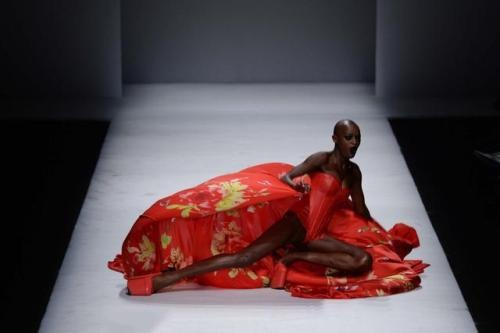falling: (111, 109, 396, 301)
